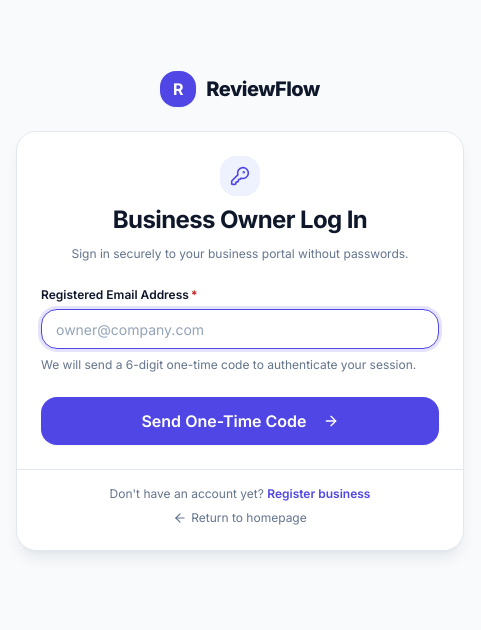
Test: LoginPage Flow › should request OTP and advance to verification step with account enumeration protection
The width and height of the screenshot is (481, 630).
Type "owner@bistro.com" into the field labelled "Registered Email Address*" at [240, 329], box [41, 309, 439, 349]
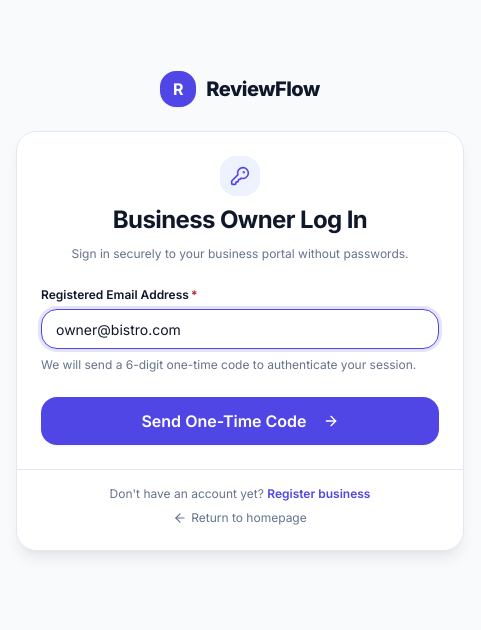
Click the button "Send One-Time Code" at [240, 421], box [41, 397, 439, 445]
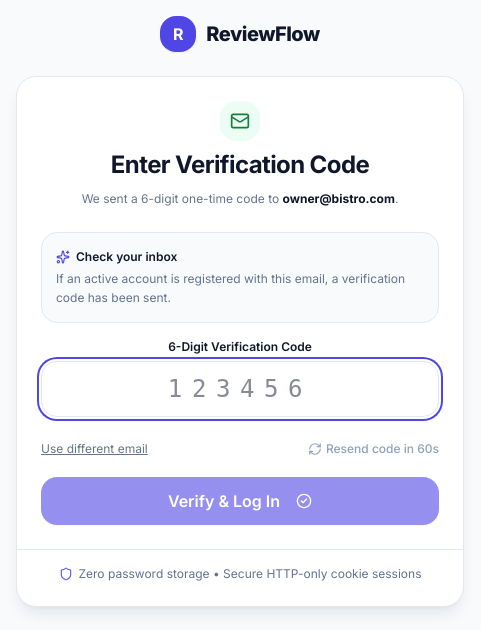
Expected: the heading "Enter Verification Code" is shown, [111, 150, 369, 178]
Expected: the text "owner@bistro.com" is shown, [282, 190, 395, 206]
Expected: the text "If an active account is registered with this email, a verification code has been sent." is shown, [56, 270, 405, 305]
